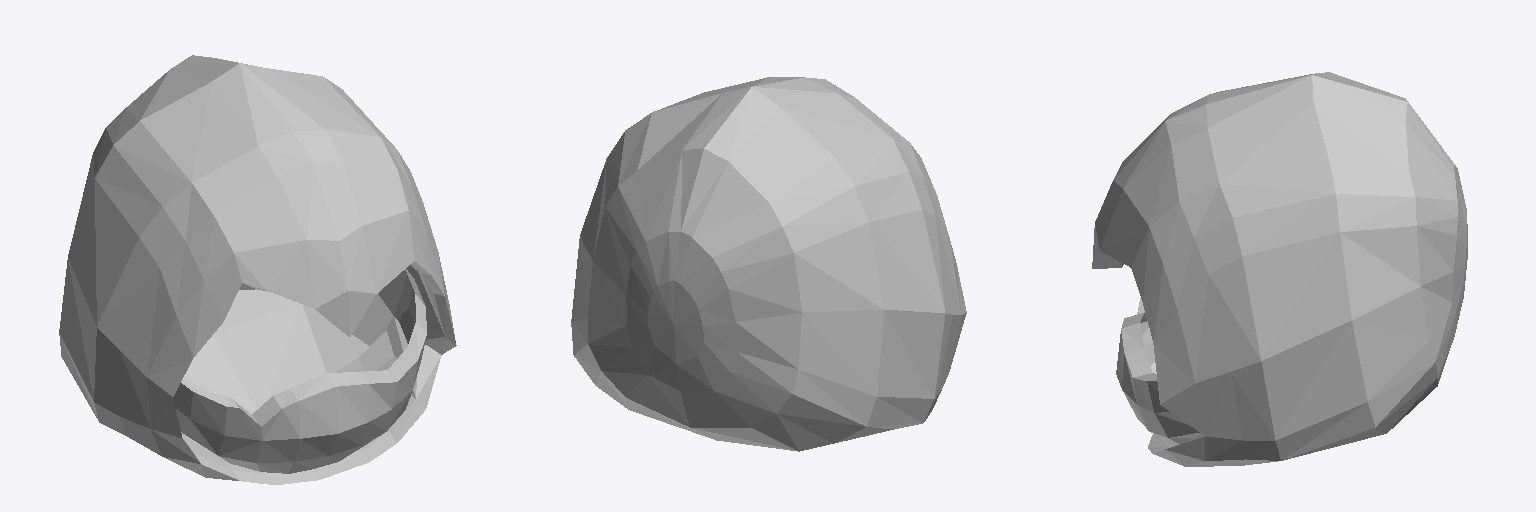
Rendered from skeleton_hood_masked.obj.
3 renders of one model, left to right at view 1: azimuth 30°, elevation 25°; view 2: azimuth 150°, elevation 25°; view 3: azimuth 270°, elevation 25°, orthographic.
Visible parts, largest first — view 1: skeleton_hood_masked_Cube.7737; view 2: skeleton_hood_masked_Cube.7737; view 3: skeleton_hood_masked_Cube.7737.
Boxes of the visible parts, <box> form: skeleton_hood_masked_Cube.7737: <box>59,55,456,484</box>; skeleton_hood_masked_Cube.7737: <box>571,77,966,451</box>; skeleton_hood_masked_Cube.7737: <box>1092,72,1467,466</box>.
Size of the model in its own units: 1.12 by 1.15 by 1.08.